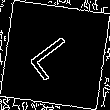L_NE: (25, 27, 85, 83)
